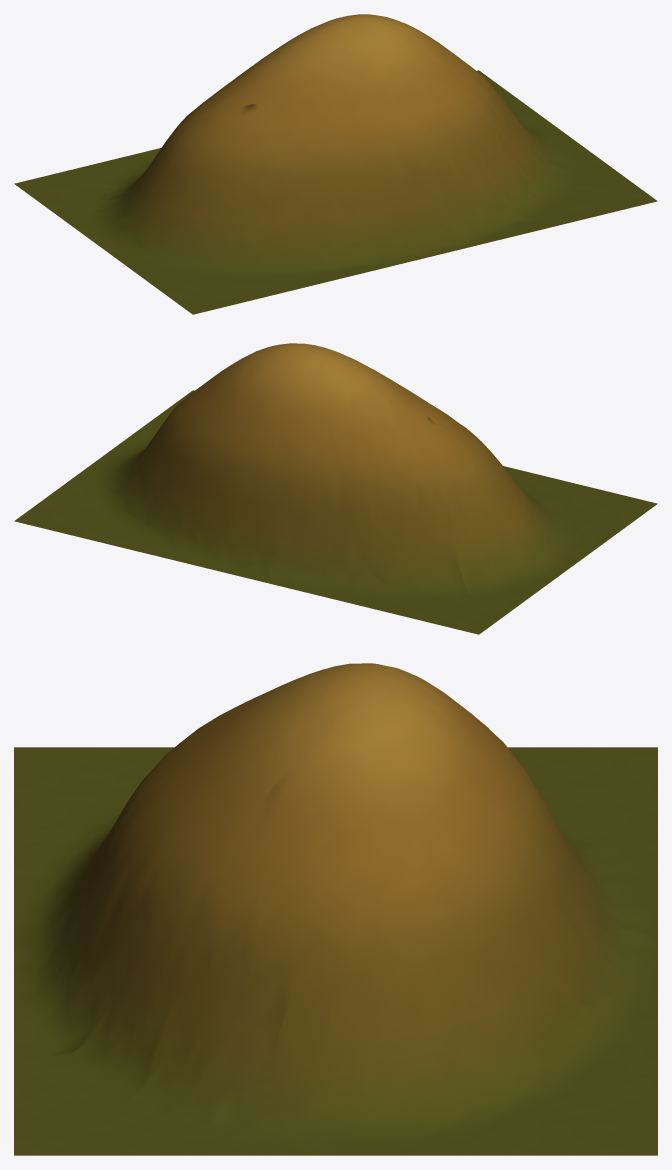
File: EarthHill_A.fbx
3 views of the same model, one above another, from view 1: azimuth 30°, elevation 25°; view 2: azimuth 150°, elevation 25°; view 3: azimuth 270°, elevation 25° (orthographic). The views are drawn at different scales.
Visible parts, largest first — view 1: EarthHill_A; view 2: EarthHill_A; view 3: EarthHill_A.
Part boxes in pixels (x1=…): EarthHill_A: x1=14, y1=14, x2=657, y2=314; EarthHill_A: x1=14, y1=343, x2=657, y2=634; EarthHill_A: x1=14, y1=663, x2=657, y2=1155.
Bounding box in the file's own units: 1800 × 596 × 1200.
